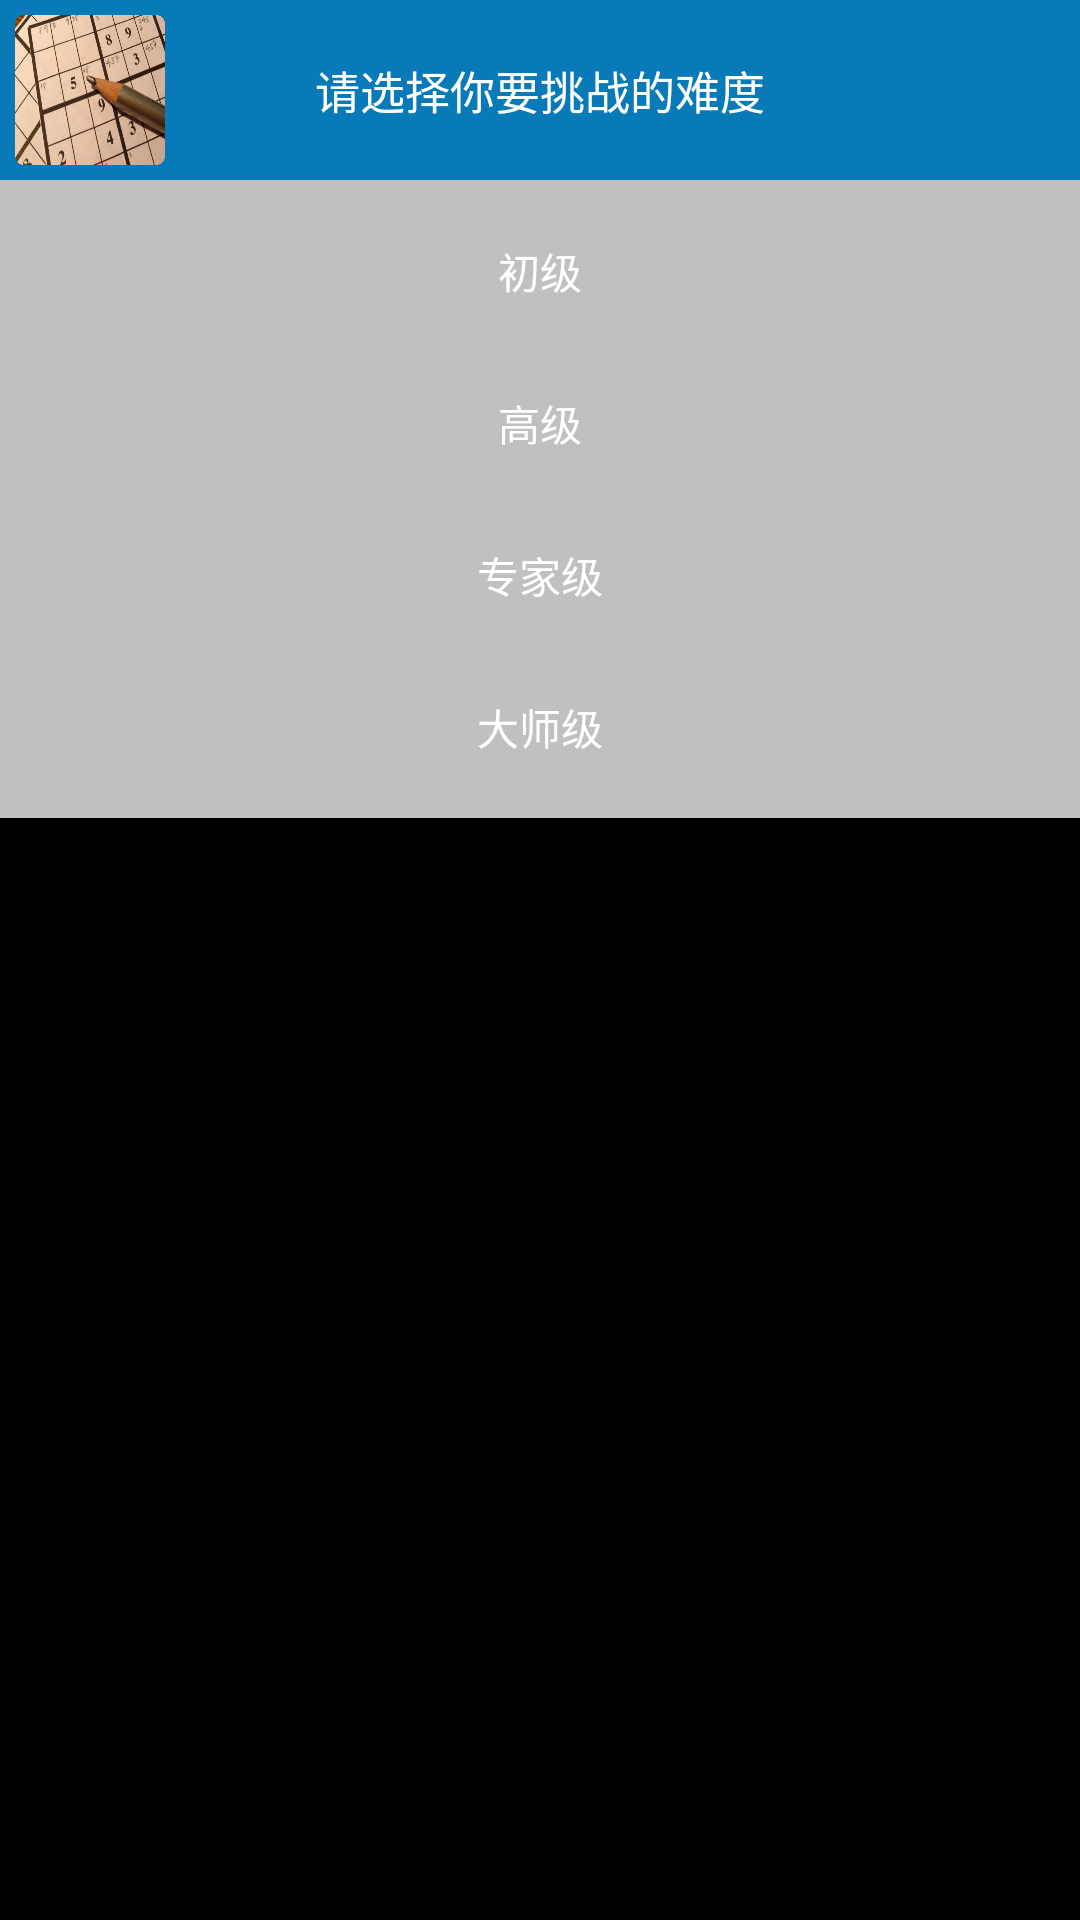

Icons on this 1080w x 1920h Android screen, each with its box as (x1, y1, x2, y2):
sudoku: (15, 15, 165, 165)
